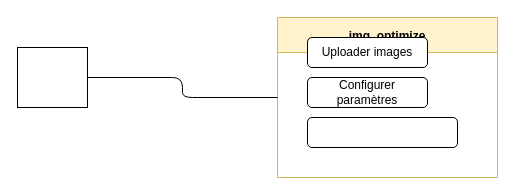
This 515x195 diagram has some shape labels left out. Here are the shapes that lost their labels. From the top down, the centre of each, then its label:
the point at 52,77: Utilisateur
the point at 382,132: Recevoir images optimisées
